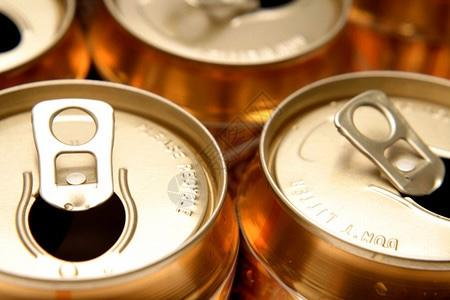metal: (0, 75, 241, 300), (231, 70, 450, 300), (89, 0, 368, 126), (0, 0, 94, 81)
